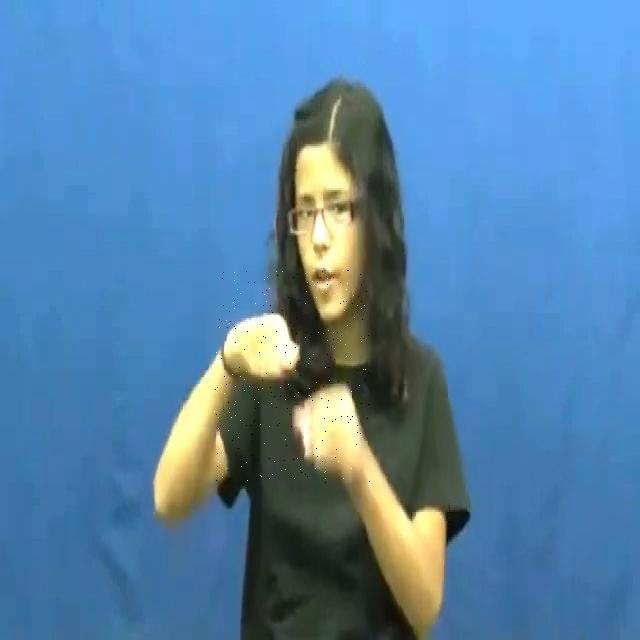yoghurt: (214, 270, 371, 484)
